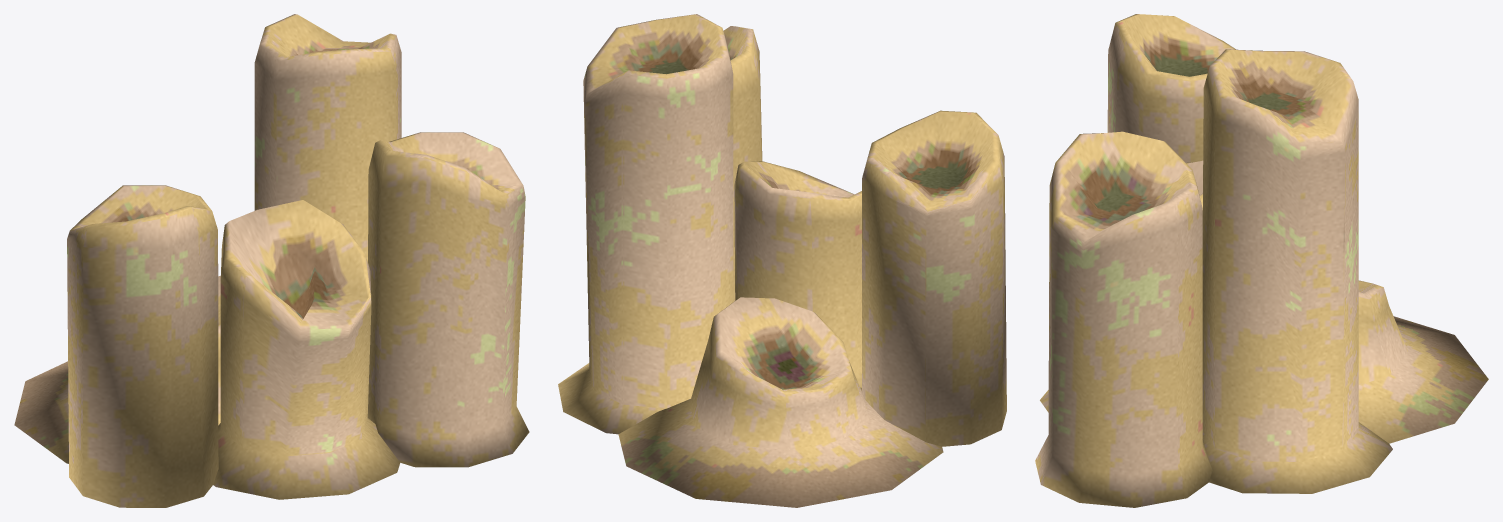
Rendered from CandleSet.fbx.
3 views of the same model, side by side, from view 1: azimuth 30°, elevation 25°; view 2: azimuth 150°, elevation 25°; view 3: azimuth 270°, elevation 25° (orthographic). The views are drawn at different scales.
Visible parts, largest first — view 1: Cylinder.037; view 2: Cylinder.037; view 3: Cylinder.037.
Part boxes in pixels (x1,y1,x2,y2): Cylinder.037: [14, 14, 529, 507]; Cylinder.037: [558, 14, 1006, 507]; Cylinder.037: [1035, 14, 1488, 507].
Size of the model in its own units: 17.14 by 14.43 by 15.55.
1 material, 1 textured.
